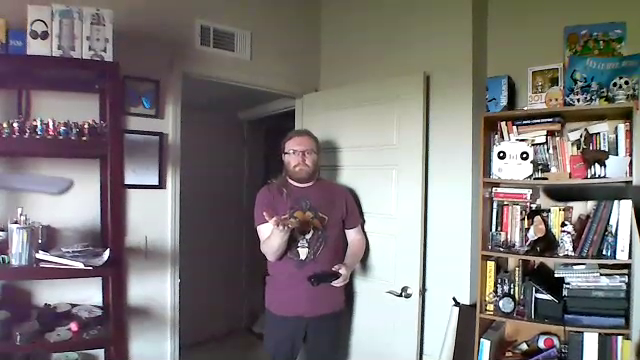land: (261, 210, 297, 235)
